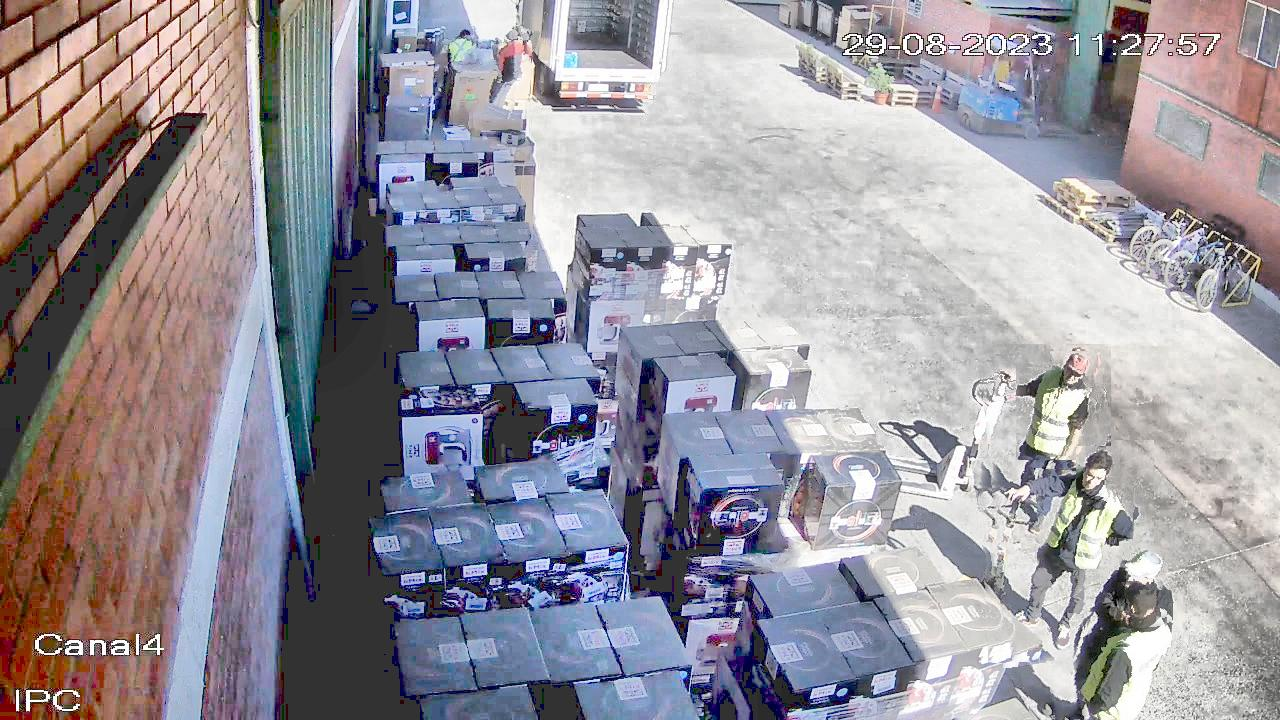con-casco: (1119, 539, 1171, 591), (1051, 352, 1095, 395)
con-chaleco: (1069, 613, 1174, 720), (1034, 469, 1133, 571), (1016, 367, 1104, 460), (445, 36, 480, 74)
persona: (978, 440, 1155, 663), (1026, 531, 1188, 720), (978, 344, 1111, 550), (1060, 576, 1177, 720), (436, 26, 481, 128), (489, 25, 534, 120)
sin-casco: (1118, 576, 1168, 630), (1076, 447, 1120, 498), (505, 26, 524, 46), (454, 27, 474, 46)
sin-chaleco: (1083, 570, 1174, 648), (495, 41, 532, 82)
